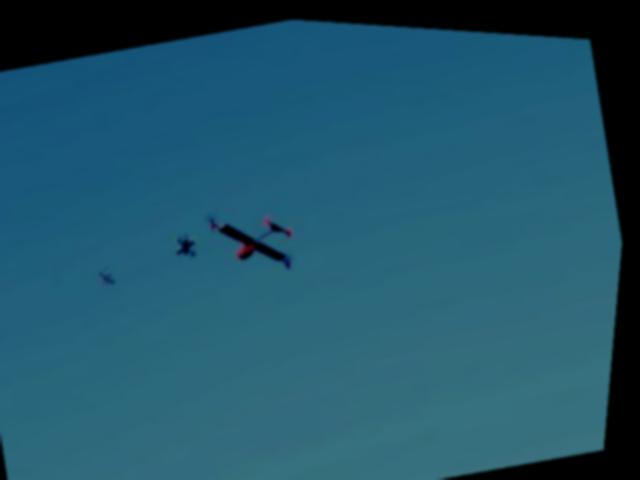uav: (200, 187, 316, 287)
